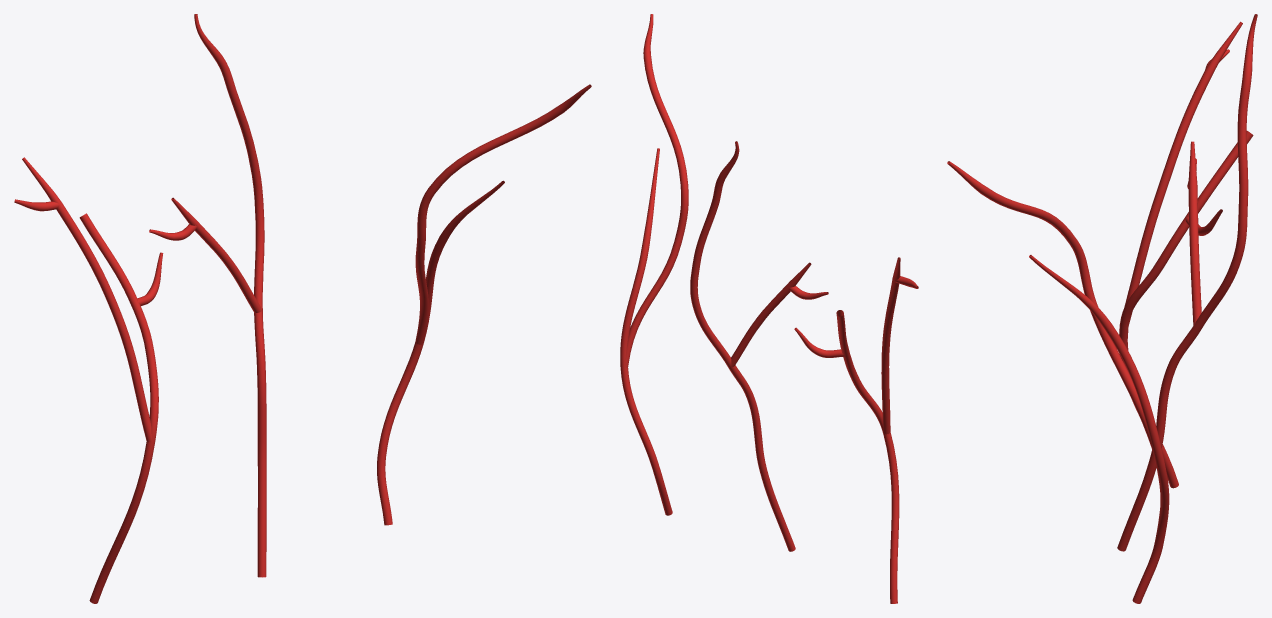
File: circulatorio-distal-lateral-striate-branches-l.glb
3 renders of one model, left to right at view 1: azimuth 30°, elevation 25°; view 2: azimuth 150°, elevation 25°; view 3: azimuth 270°, elevation 25°, orthographic. The views are drawn at different scales.
Parts seen in each view (by area): view 1: Distal lateral striate branches.l; view 2: Distal lateral striate branches.l; view 3: Distal lateral striate branches.l.
Boxes of the visible parts, x1,y1,x2,y2 form: Distal lateral striate branches.l: (14, 14, 591, 603); Distal lateral striate branches.l: (620, 14, 918, 603); Distal lateral striate branches.l: (947, 14, 1257, 603).
Size of the model in its own units: 0.0116 by 0.0132 by 0.00683.
